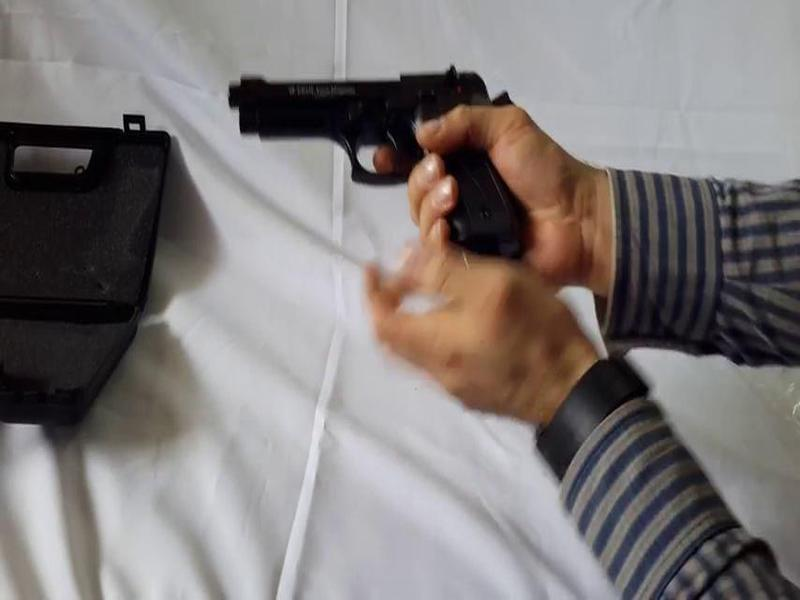Pistola: (221, 54, 537, 255)
